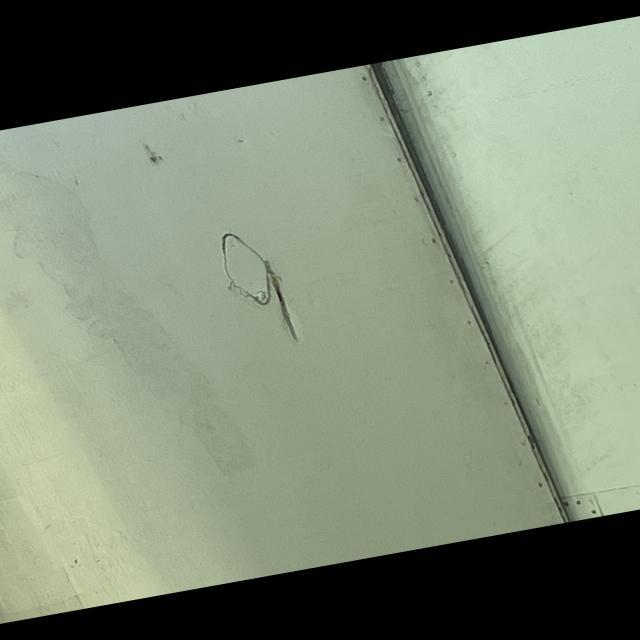crack: (238, 261, 329, 345)
